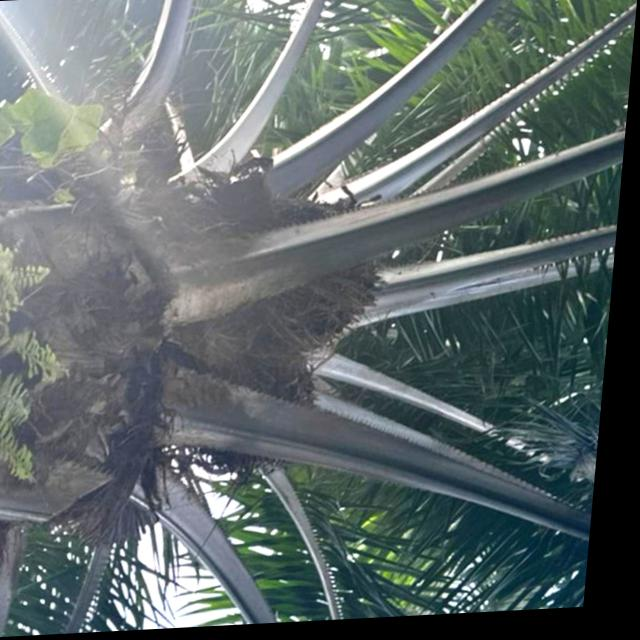unripe: (197, 192, 398, 368), (183, 366, 327, 484)
